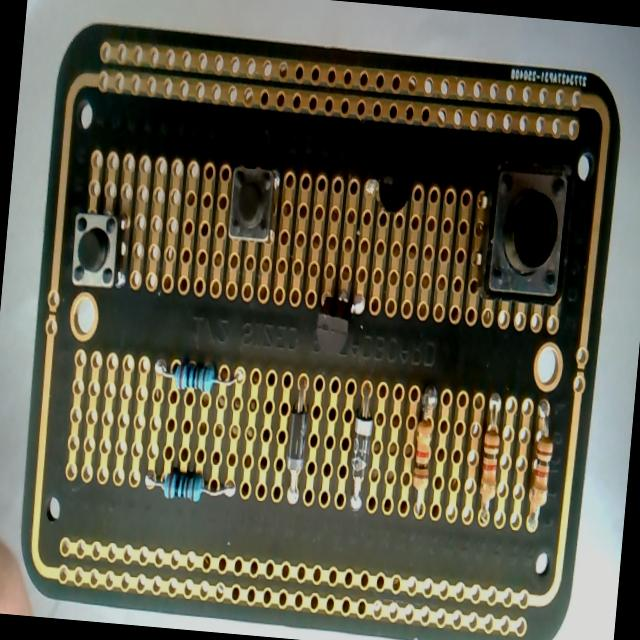diode: (281, 379, 312, 505), (408, 384, 438, 514), (346, 384, 376, 511)
resistor: (524, 398, 556, 532), (476, 389, 506, 522), (152, 356, 244, 397), (146, 466, 234, 506)
switch: (478, 158, 572, 306), (68, 208, 122, 290), (226, 162, 278, 244)
transistor: (312, 282, 368, 359), (361, 158, 416, 224)
